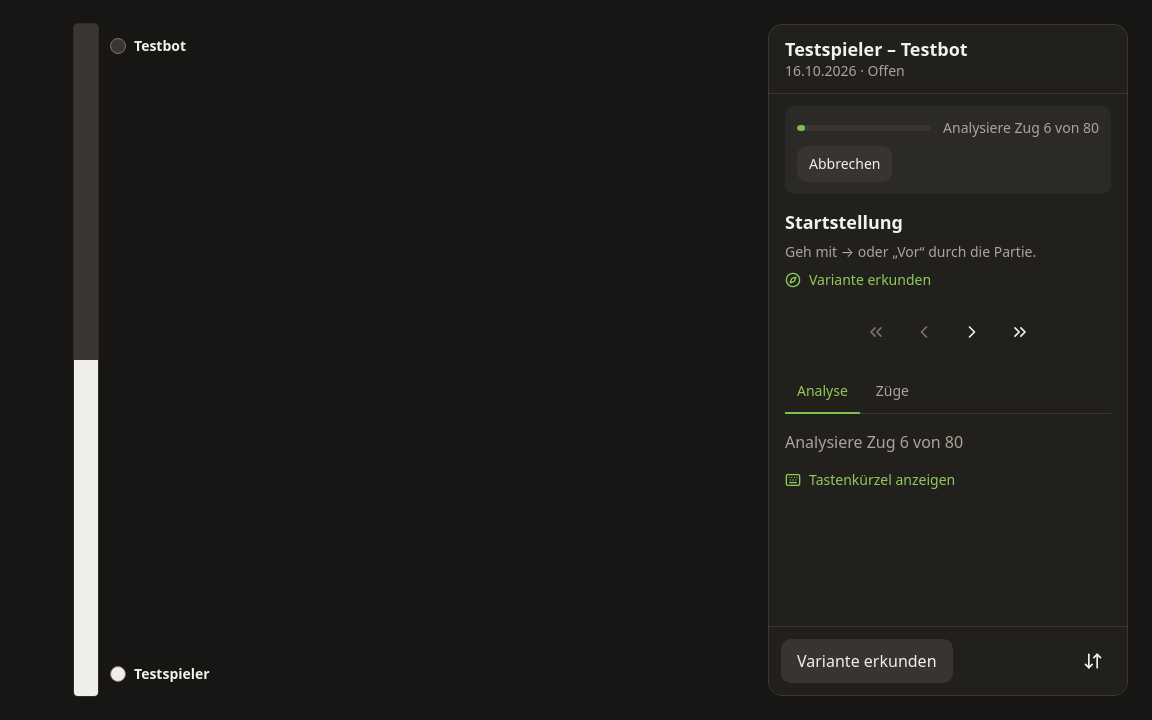
Test: Partieanalyse › cancel stops the analysis and offers a restart
The image size is (1152, 720).
Click the button "Abbrechen" at (845, 164), box [797,146,892,182]
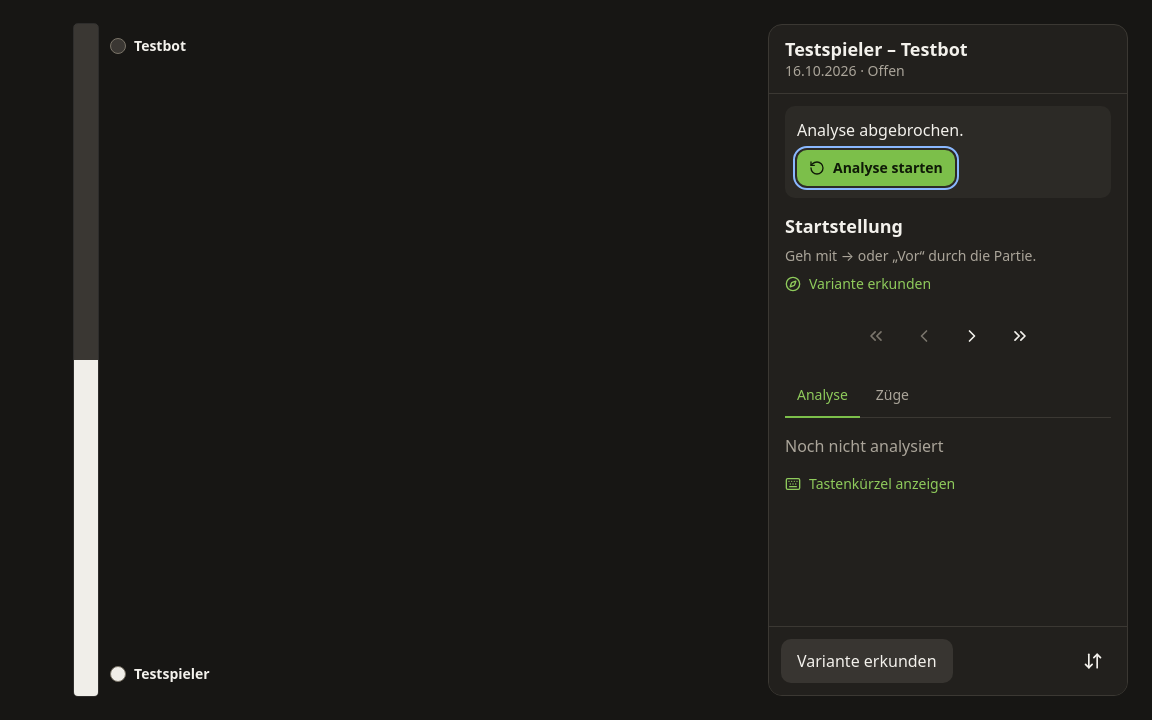
Check: the text "Analyse abgebrochen." is shown, box [797,119,964,141]
Click the button "Analyse starten" at (876, 168), box [797,150,955,186]
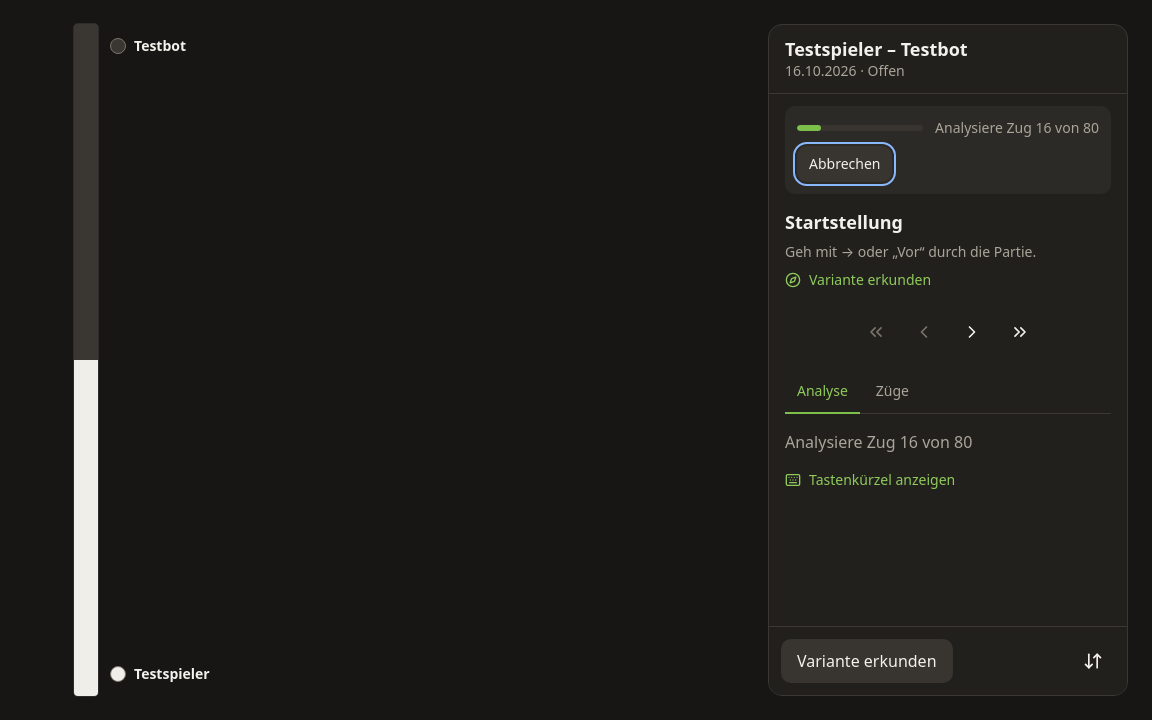
Check: the element with test id "analysis-progress" is shown, box [785,106,1111,194]
